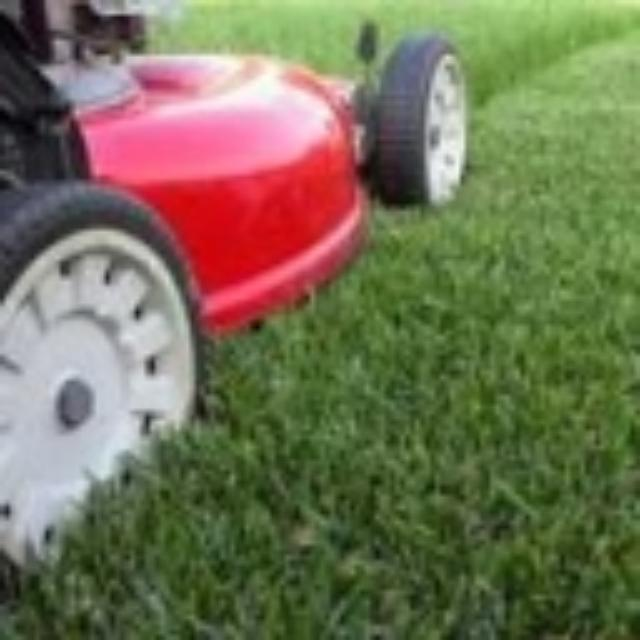Rotary-Mower: (0, 0, 470, 600)
